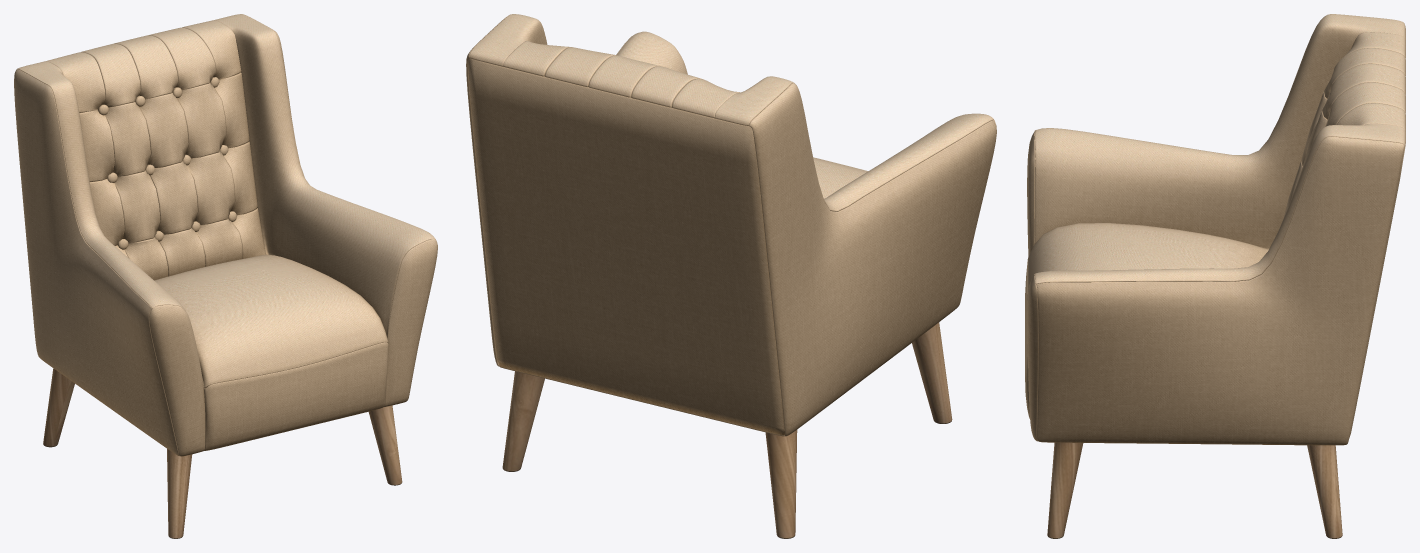
The model's file is quentin_armchair_safari_beige.glb.
3 views of the same model, side by side, from view 1: azimuth 30°, elevation 25°; view 2: azimuth 150°, elevation 25°; view 3: azimuth 270°, elevation 25° (orthographic). The views are drawn at different scales.
Visible parts, largest first — view 1: FABRIC001_FABRIC_0, WOOD001_WOOD_0; view 2: FABRIC001_FABRIC_0, WOOD001_WOOD_0; view 3: FABRIC001_FABRIC_0, WOOD001_WOOD_0.
Part boxes in pixels (left/top/right/bottom): FABRIC001_FABRIC_0: left=14, top=14, right=437, bottom=456; WOOD001_WOOD_0: left=43, top=368, right=402, bottom=538; FABRIC001_FABRIC_0: left=466, top=14, right=996, bottom=436; WOOD001_WOOD_0: left=502, top=322, right=952, bottom=538; FABRIC001_FABRIC_0: left=1025, top=14, right=1405, bottom=445; WOOD001_WOOD_0: left=1047, top=442, right=1342, bottom=538.
Size of what is drawn, in the model's own units: 79.86 by 94.99 by 81.25.
Materials: 2 (2 with a texture image).
